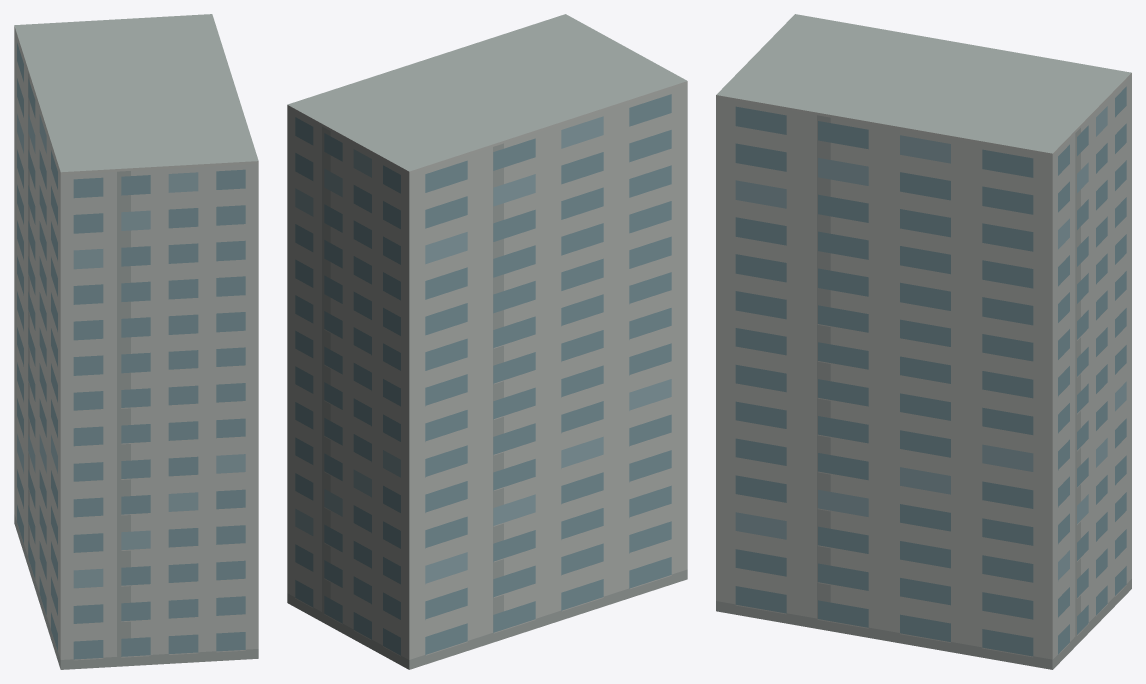
The model's file is residential-42ea54be-1bd9-4eb3-a498-7080af2e60c1.glb.
3 views of the same model, side by side, from view 1: azimuth 30°, elevation 25°; view 2: azimuth 150°, elevation 25°; view 3: azimuth 270°, elevation 25° (orthographic). The views are drawn at different scales.
Visible parts, largest first — view 1: residential-42ea54be-1bd9-4eb3-a498-7080af2e60c1.tmp; view 2: residential-42ea54be-1bd9-4eb3-a498-7080af2e60c1.tmp; view 3: residential-42ea54be-1bd9-4eb3-a498-7080af2e60c1.tmp.
Boxes of the visible parts, x1,y1,x2,y2 form: residential-42ea54be-1bd9-4eb3-a498-7080af2e60c1.tmp: (14,14,258,669); residential-42ea54be-1bd9-4eb3-a498-7080af2e60c1.tmp: (287,14,687,669); residential-42ea54be-1bd9-4eb3-a498-7080af2e60c1.tmp: (716,14,1131,669).
Size of the model in its own units: 27.27 by 47 by 34.31.
